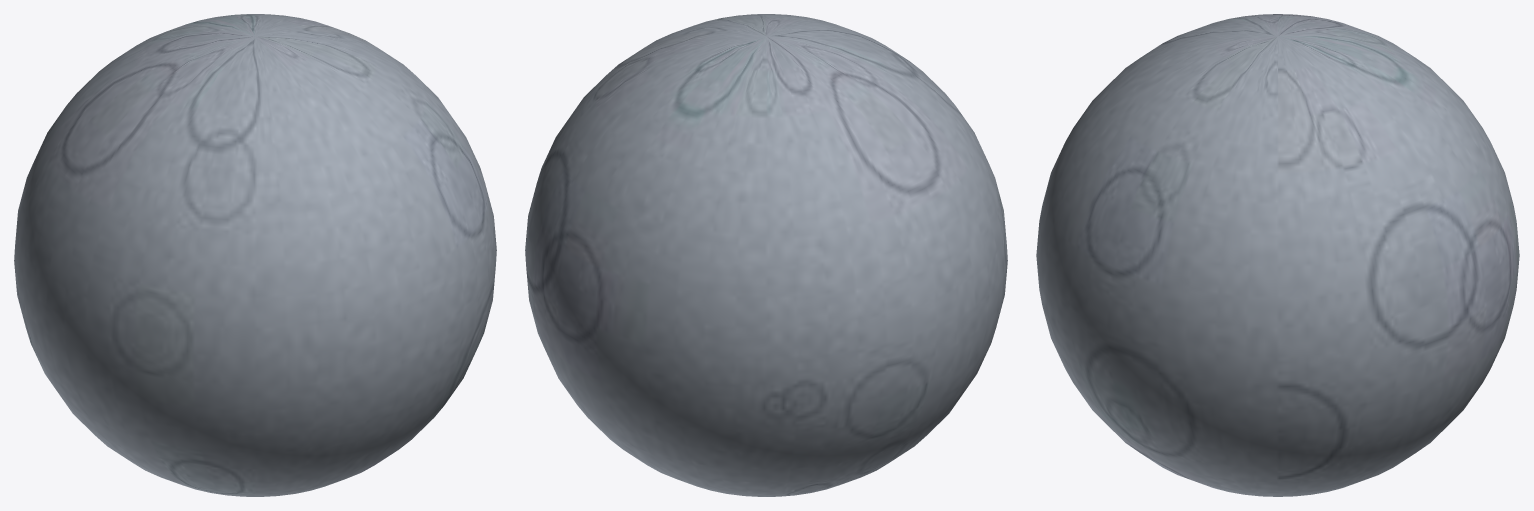
File: titania.glb
3 renders of one model, left to right at view 1: azimuth 30°, elevation 25°; view 2: azimuth 150°, elevation 25°; view 3: azimuth 270°, elevation 25°, orthographic.
Bounding box in the file's own units: 2 × 2 × 2.
Materials: 1 (1 with a texture image).
